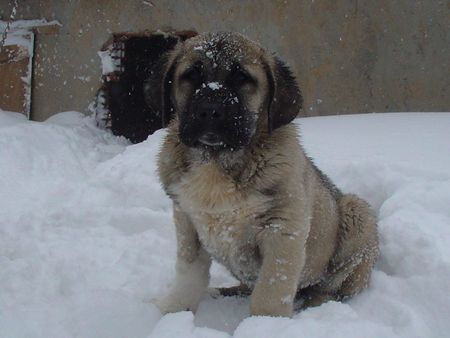kangal: (145, 28, 379, 319)
